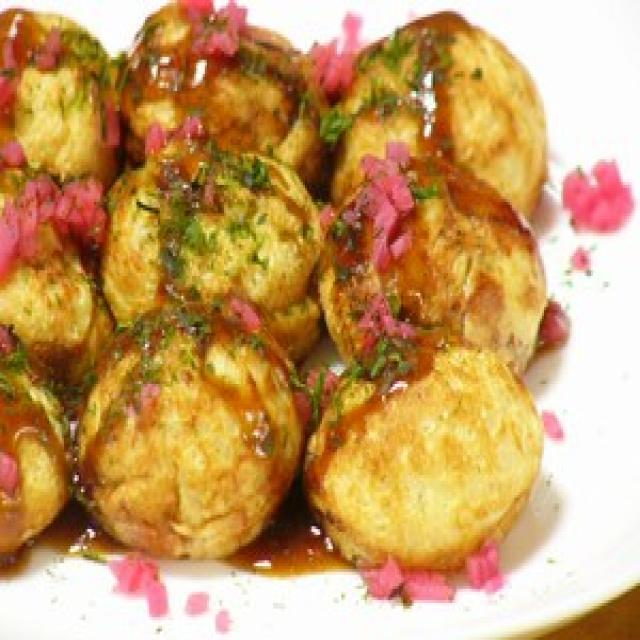炸货点心: (0, 0, 550, 583)
